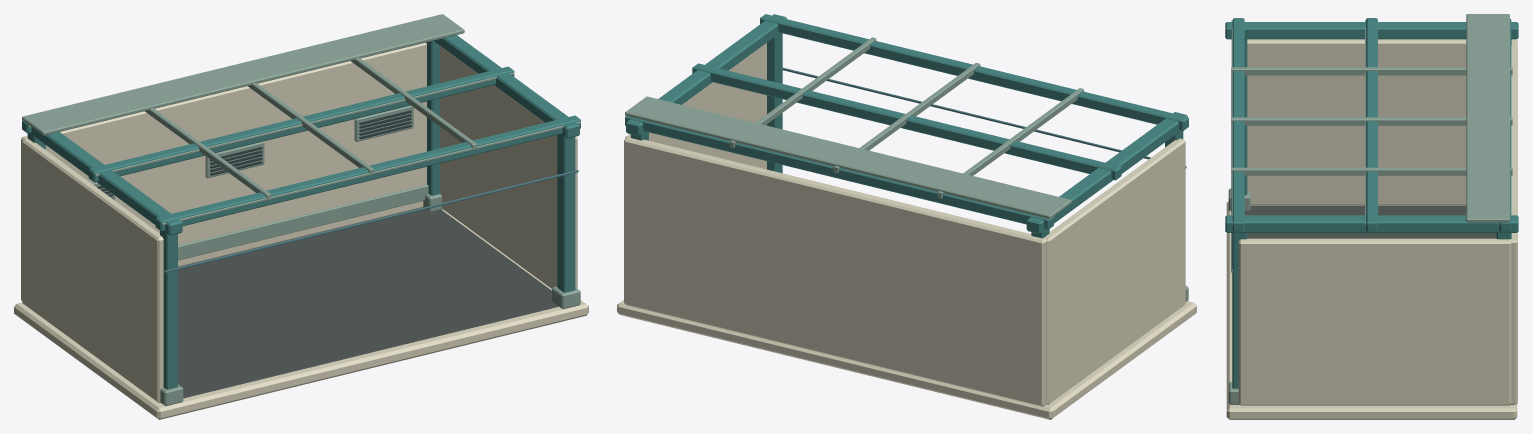
The model's file is garage_shell.glb.
The picture shows the model from 3 angles, left to right: view 1: azimuth 30°, elevation 25°; view 2: azimuth 150°, elevation 25°; view 3: azimuth 270°, elevation 25°; orthographic projection.
Visible parts, largest first — view 1: garage_shell; view 2: garage_shell; view 3: garage_shell.
Boxes of the visible parts, x1,y1,x2,y2 form: garage_shell: (14, 14, 588, 419); garage_shell: (617, 14, 1196, 419); garage_shell: (1225, 14, 1518, 419).
Size of the model in its own units: 8.4 by 3.72 by 4.95.
